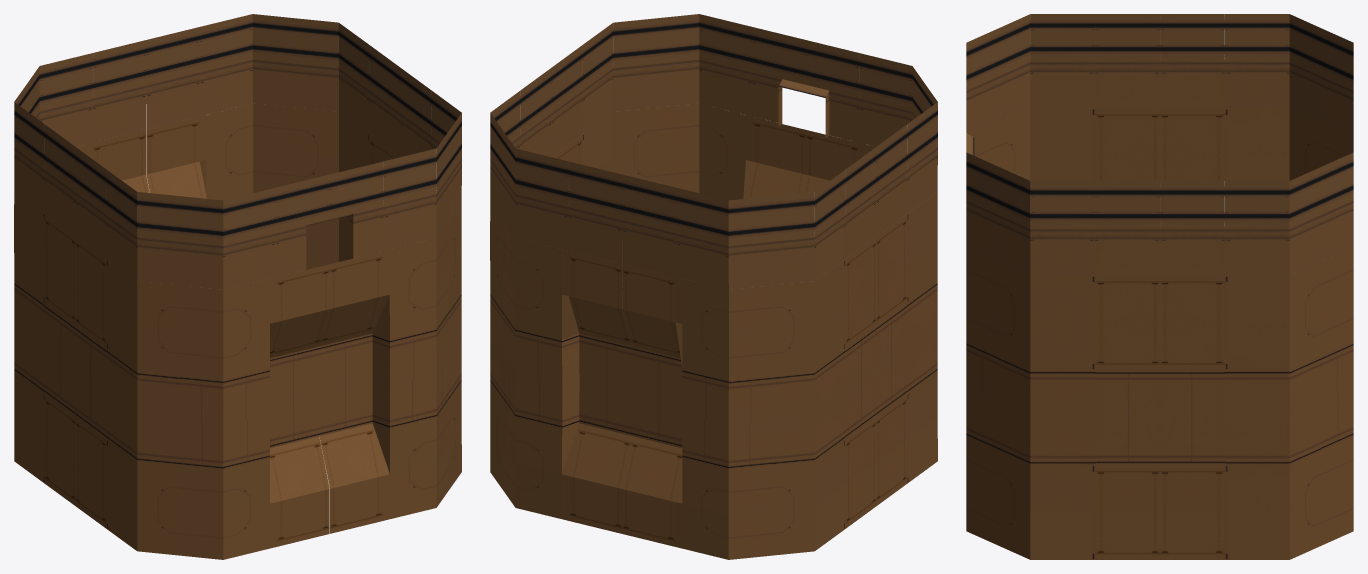
File: WallExteriorClub1.fbx
The picture shows the model from 3 angles, left to right: view 1: azimuth 30°, elevation 25°; view 2: azimuth 150°, elevation 25°; view 3: azimuth 270°, elevation 25°; orthographic projection. The views are drawn at different scales.
Visible parts, largest first — view 1: WallExteriorClub1; view 2: WallExteriorClub1; view 3: WallExteriorClub1.
Part boxes in pixels (x1,y1,x2,y2): WallExteriorClub1: (14,14,461,559); WallExteriorClub1: (490,14,937,559); WallExteriorClub1: (966,14,1353,559).
Size of the model in its own units: 1801 by 1905 by 1765.
